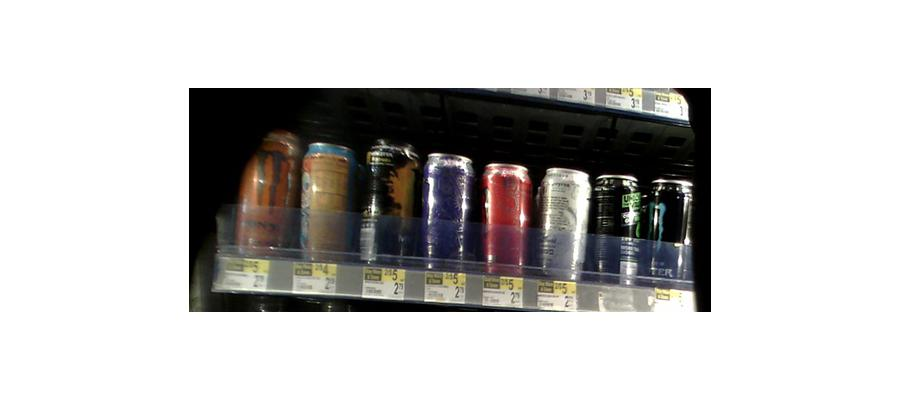bottle: (236, 123, 300, 261), (419, 149, 476, 274), (301, 142, 359, 263), (365, 136, 417, 267), (479, 160, 533, 277), (536, 166, 588, 282), (647, 173, 695, 286), (594, 178, 641, 288)
